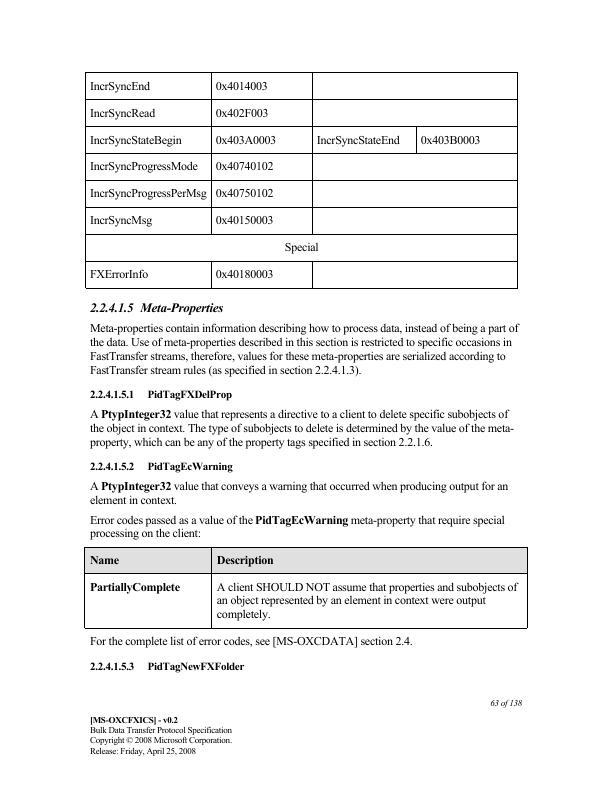table: (83, 72, 519, 293), (82, 546, 529, 631)
text: (87, 323, 524, 376), (87, 408, 515, 448), (88, 513, 508, 541), (88, 480, 510, 506), (86, 712, 234, 755), (86, 634, 416, 649), (88, 657, 246, 674), (87, 386, 233, 403), (86, 300, 226, 317), (85, 460, 235, 473), (487, 694, 527, 711)
